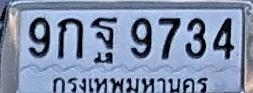3: (185, 17, 206, 58)
4: (212, 17, 234, 59)
7: (158, 17, 180, 59)
9: (28, 16, 50, 58), (130, 17, 152, 58)
A01: (57, 17, 83, 59)
A16: (91, 16, 118, 58)
BKK: (49, 73, 212, 93)
